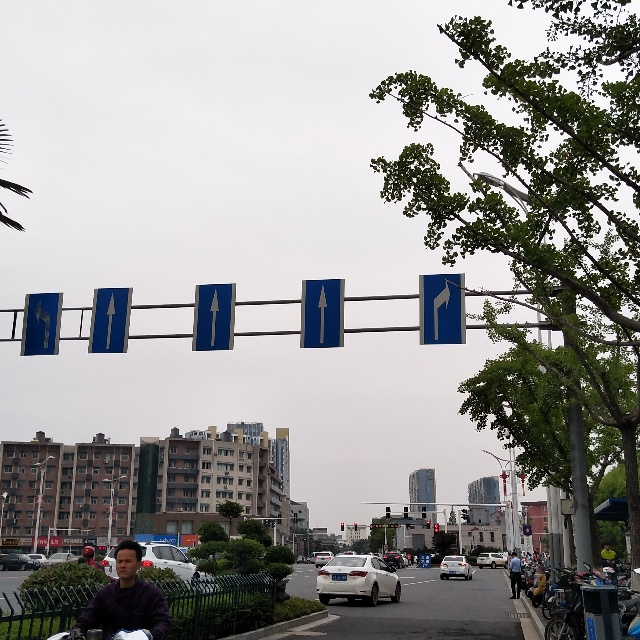left: (28, 293, 57, 353)
right: (420, 276, 461, 346)
straight: (96, 283, 126, 352), (201, 286, 232, 347), (307, 283, 334, 347)
